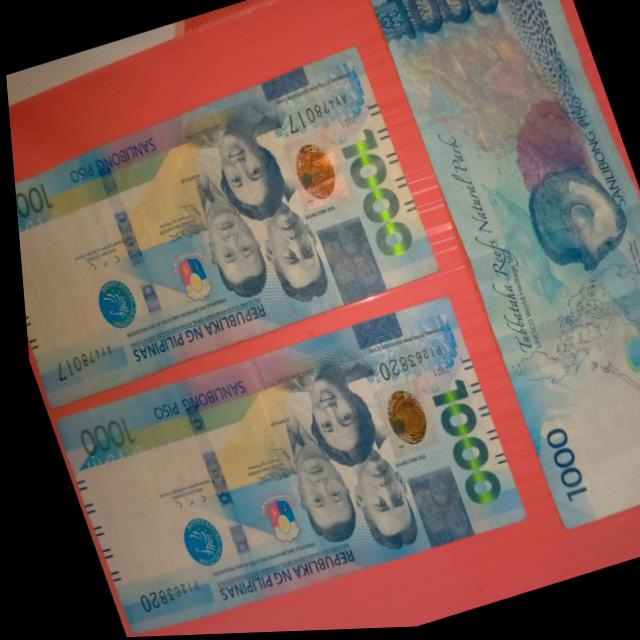concealed_value: (310, 216, 382, 308), (397, 467, 467, 553)
optically_variable_device: (274, 128, 349, 213), (365, 380, 434, 462)
see_through_mark: (71, 433, 151, 485), (13, 203, 68, 247), (630, 378, 640, 475)
value_watermark: (16, 250, 36, 300), (621, 454, 640, 484)
watermark: (15, 229, 115, 361), (552, 383, 640, 501)
